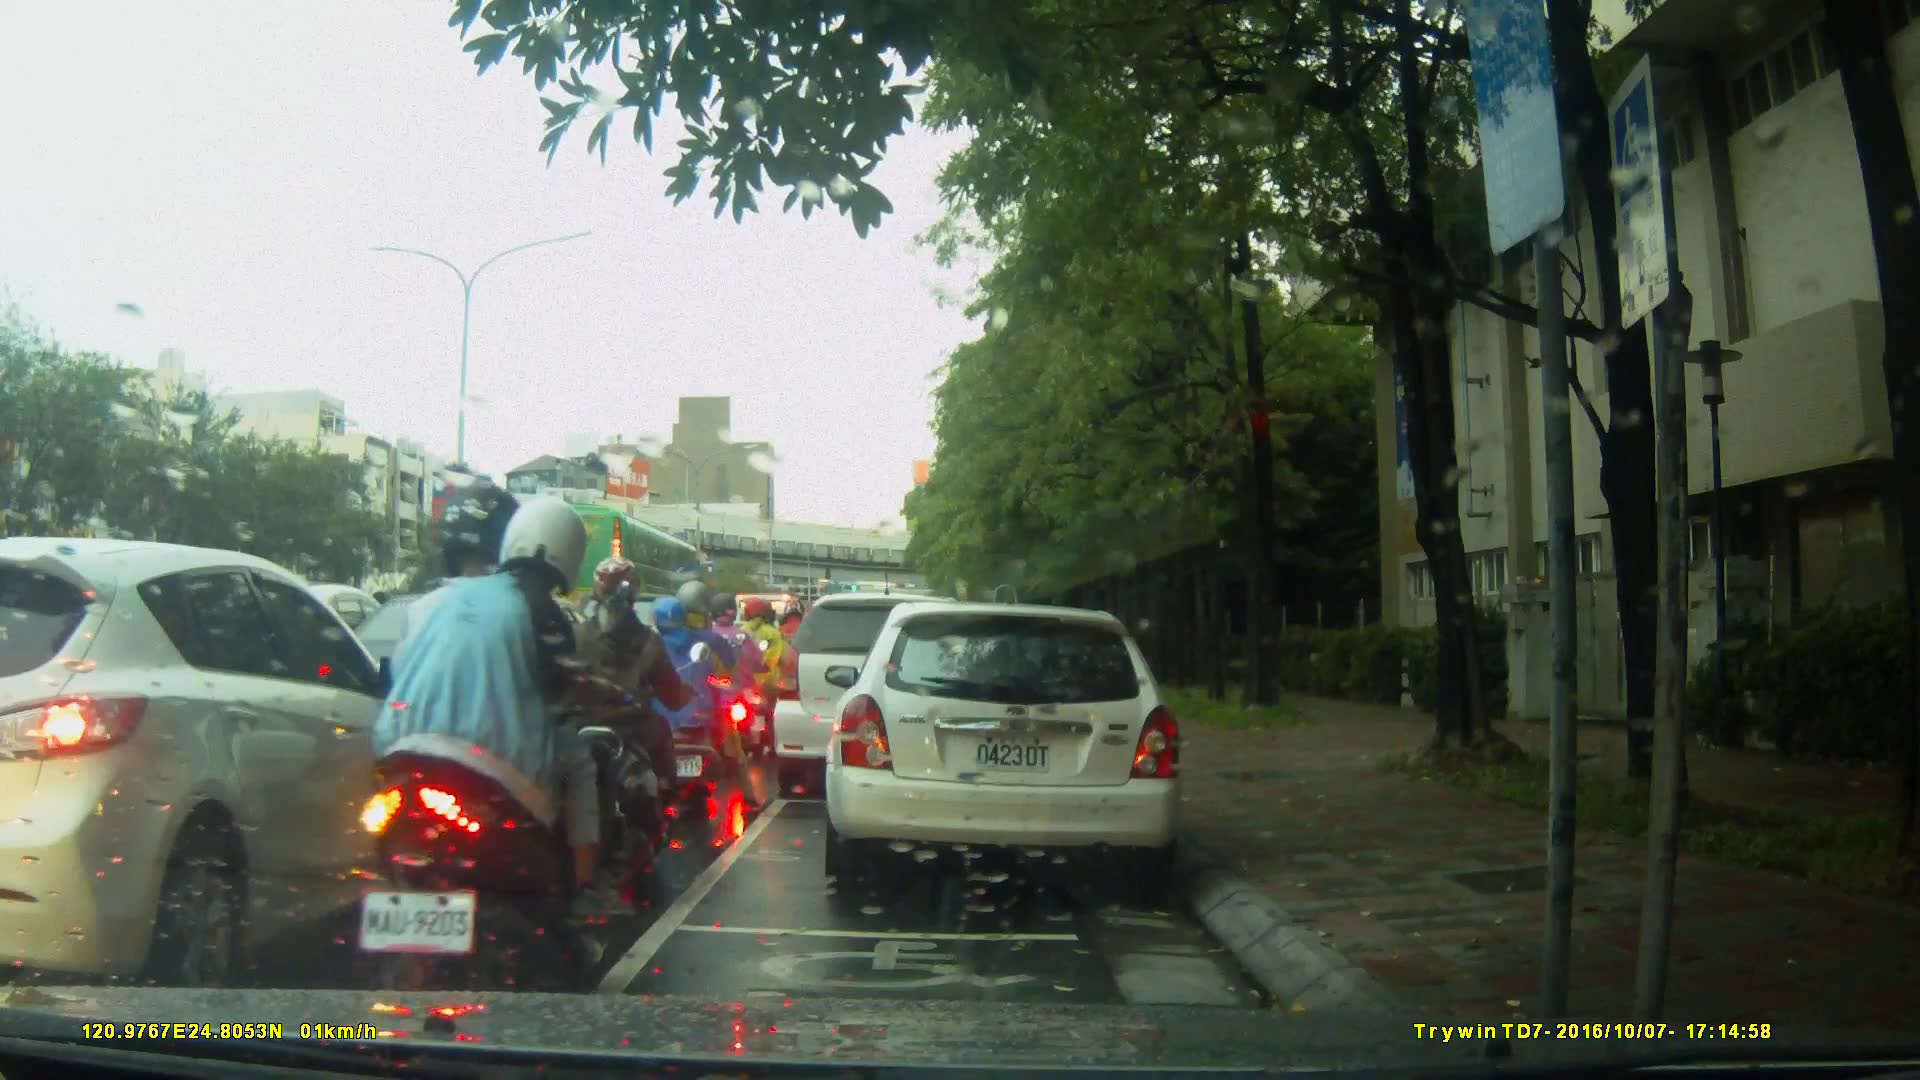rider: (360, 490, 636, 1008), (563, 556, 711, 886), (645, 585, 729, 813), (697, 598, 770, 764), (735, 598, 797, 752), (776, 596, 818, 719)
vehicle: (4, 535, 465, 988), (831, 592, 1196, 897), (312, 589, 629, 776), (771, 590, 999, 803), (501, 503, 709, 636)
